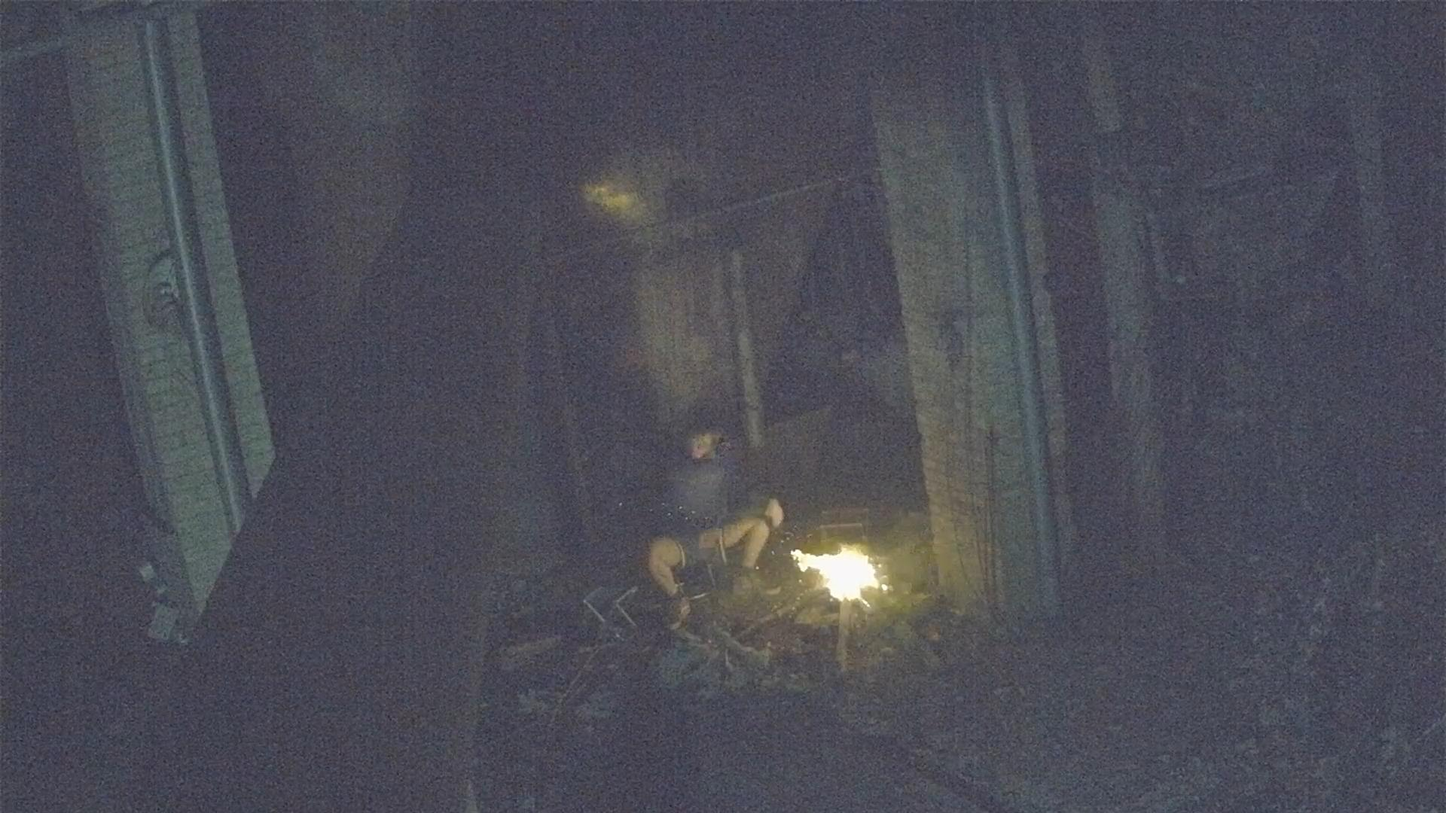fire: (794, 547, 880, 600)
